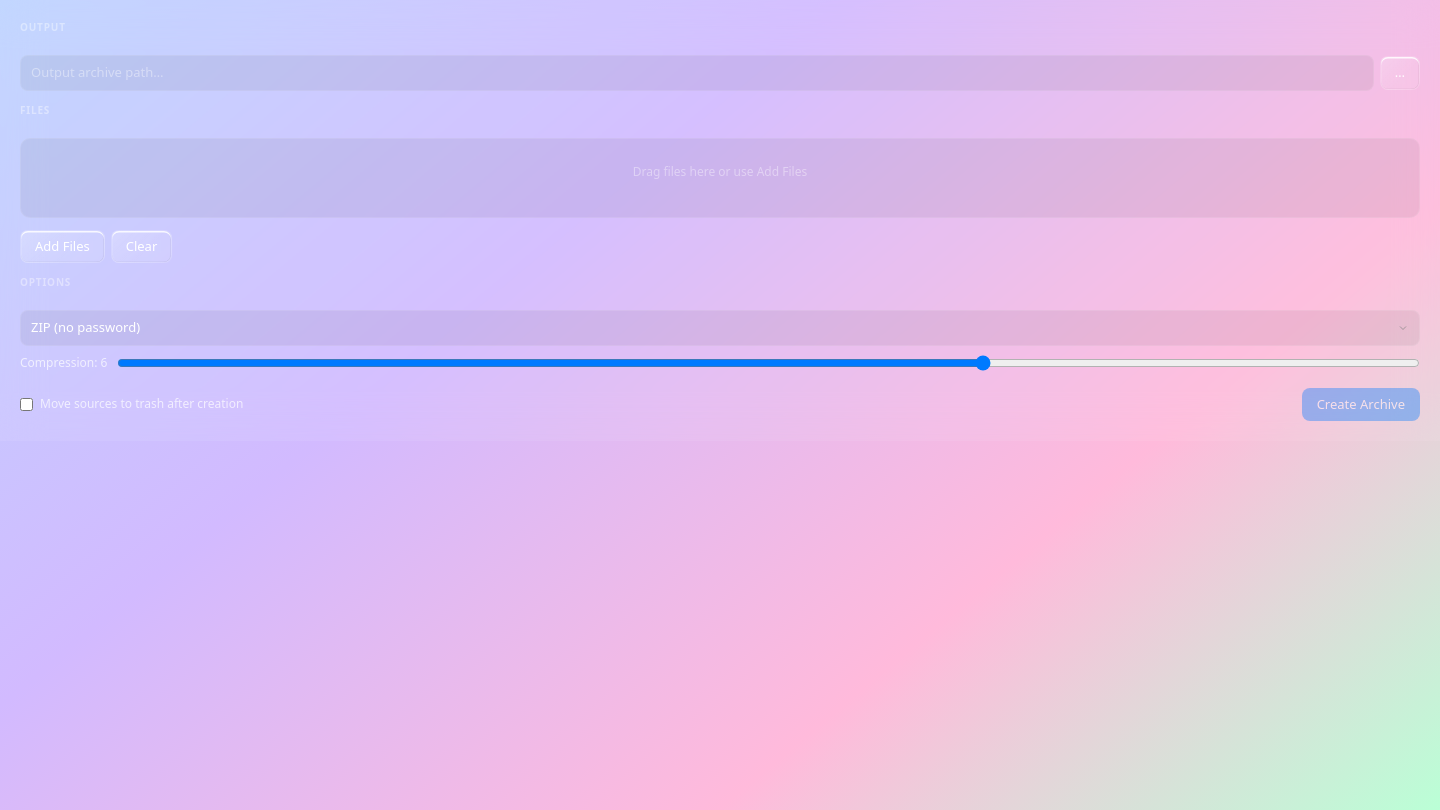
Test: CreatePanel › adds files from dialog to the list
The image size is (1440, 810).
Click the button "Add Files" at (62, 246), box 20,230 -> 105,263
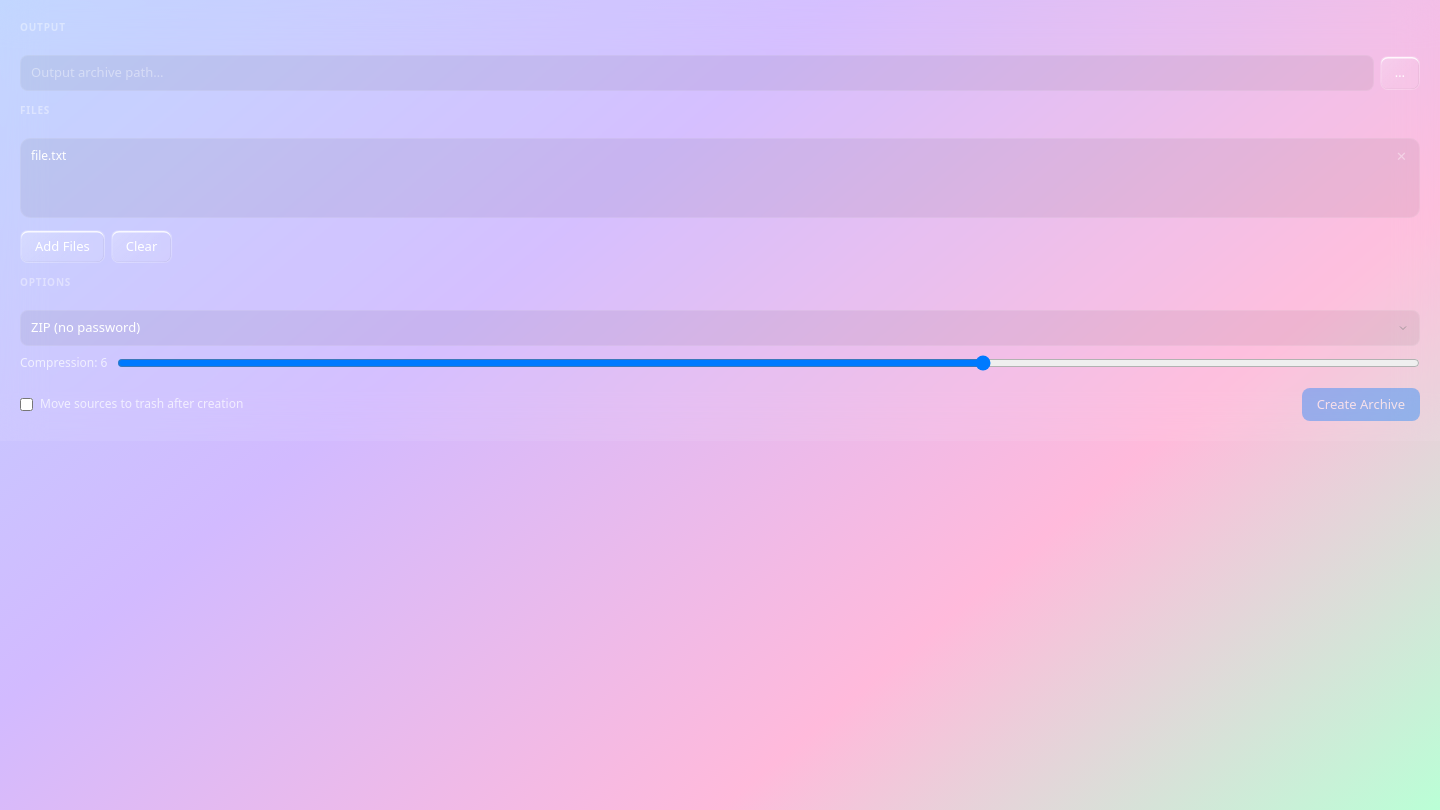
Now the text "file.txt" is shown, box 31,147 -> 66,165
